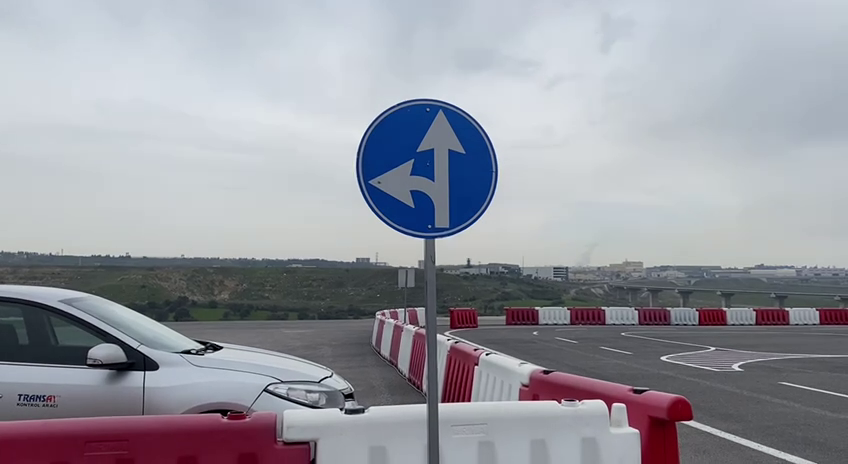forwardAndLeft: (349, 90, 506, 244)
